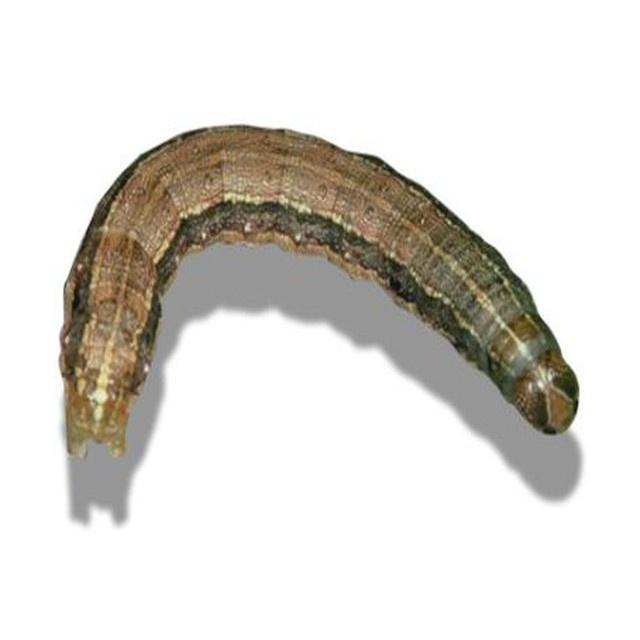gusano_cogollero: (58, 120, 580, 469)
